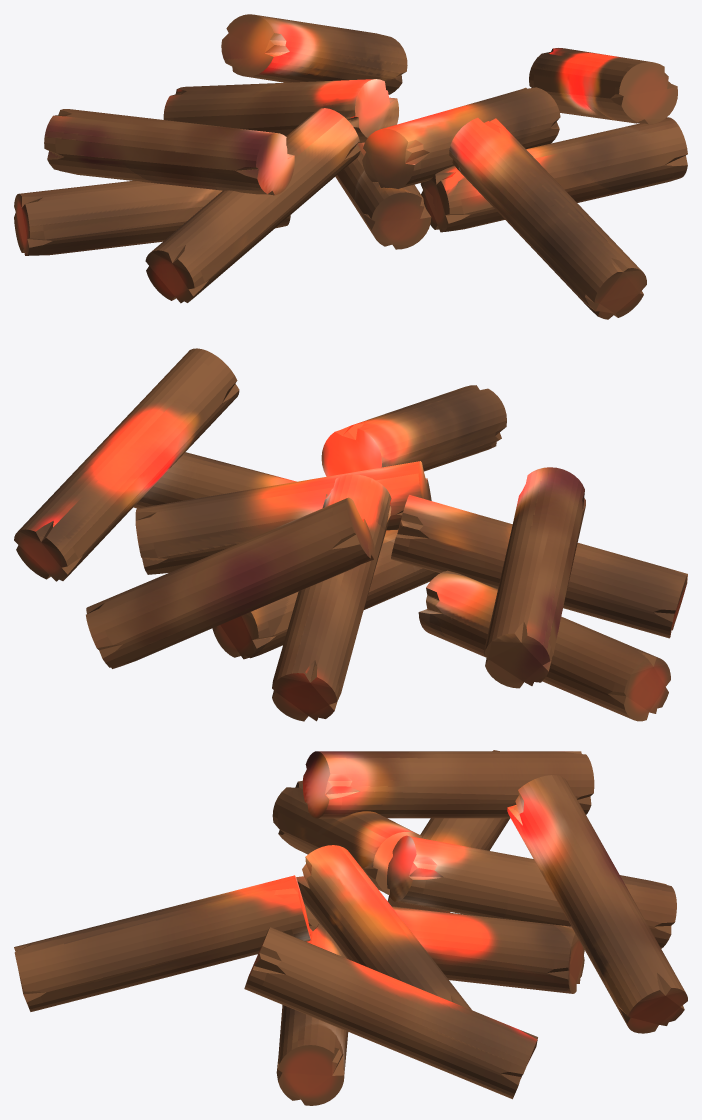
Rendered from Logs.fbx.
The picture shows the model from 3 angles, top to bottom: view 1: azimuth 30°, elevation 25°; view 2: azimuth 150°, elevation 25°; view 3: azimuth 270°, elevation 25°; orthographic projection. The views are drawn at different scales.
Parts seen in each view (by area): view 1: Logs; view 2: Logs; view 3: Logs.
Part boxes in pixels (bbox=[...]): Logs: bbox=[14, 14, 687, 319]; Logs: bbox=[14, 348, 687, 721]; Logs: bbox=[14, 750, 687, 1105].
Bounding box in the file's own units: 172 × 46.83 × 160.
Materials: 1 (1 with a texture image).
